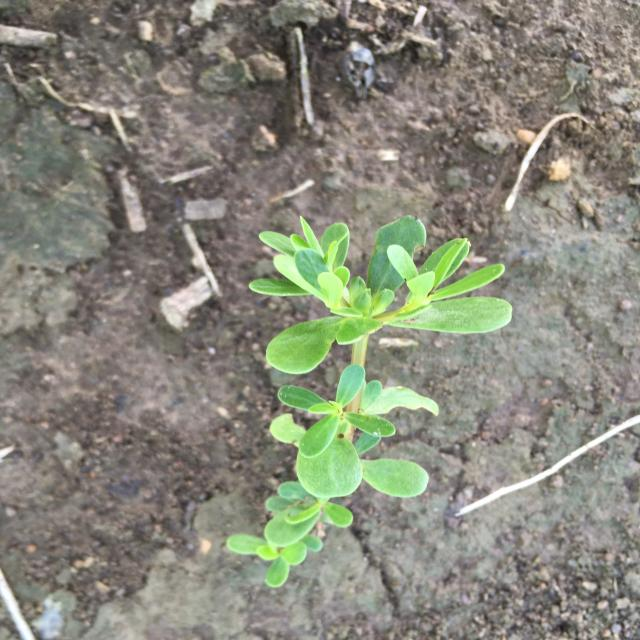Purslane: (227, 216, 513, 587)
